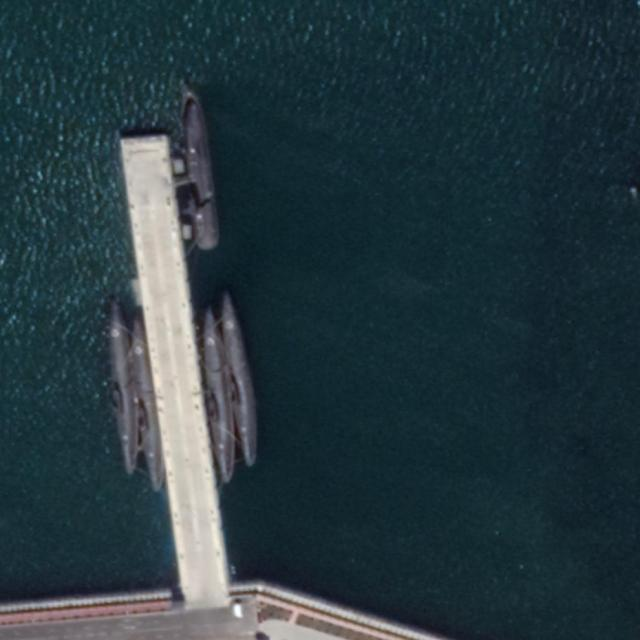Submarine: (217, 290, 265, 471), (98, 297, 144, 482), (174, 88, 224, 253), (197, 303, 241, 485), (126, 312, 164, 493)
